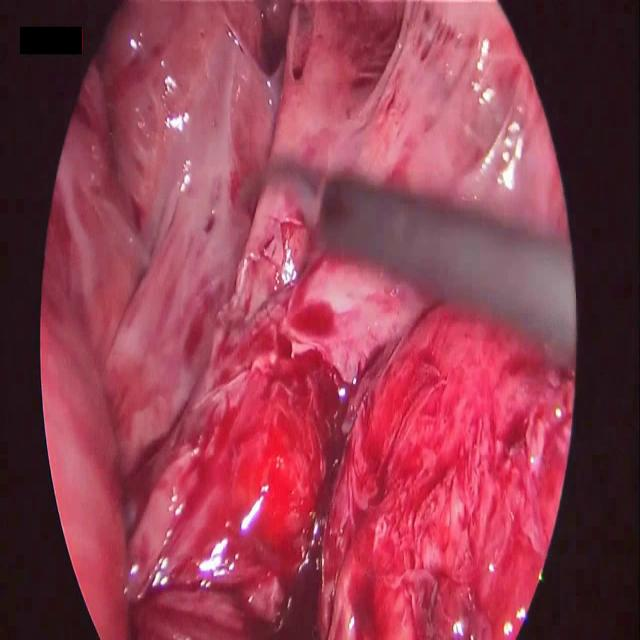surgical-area: (38, 0, 575, 639)
surgical-tool: (314, 168, 575, 370)
